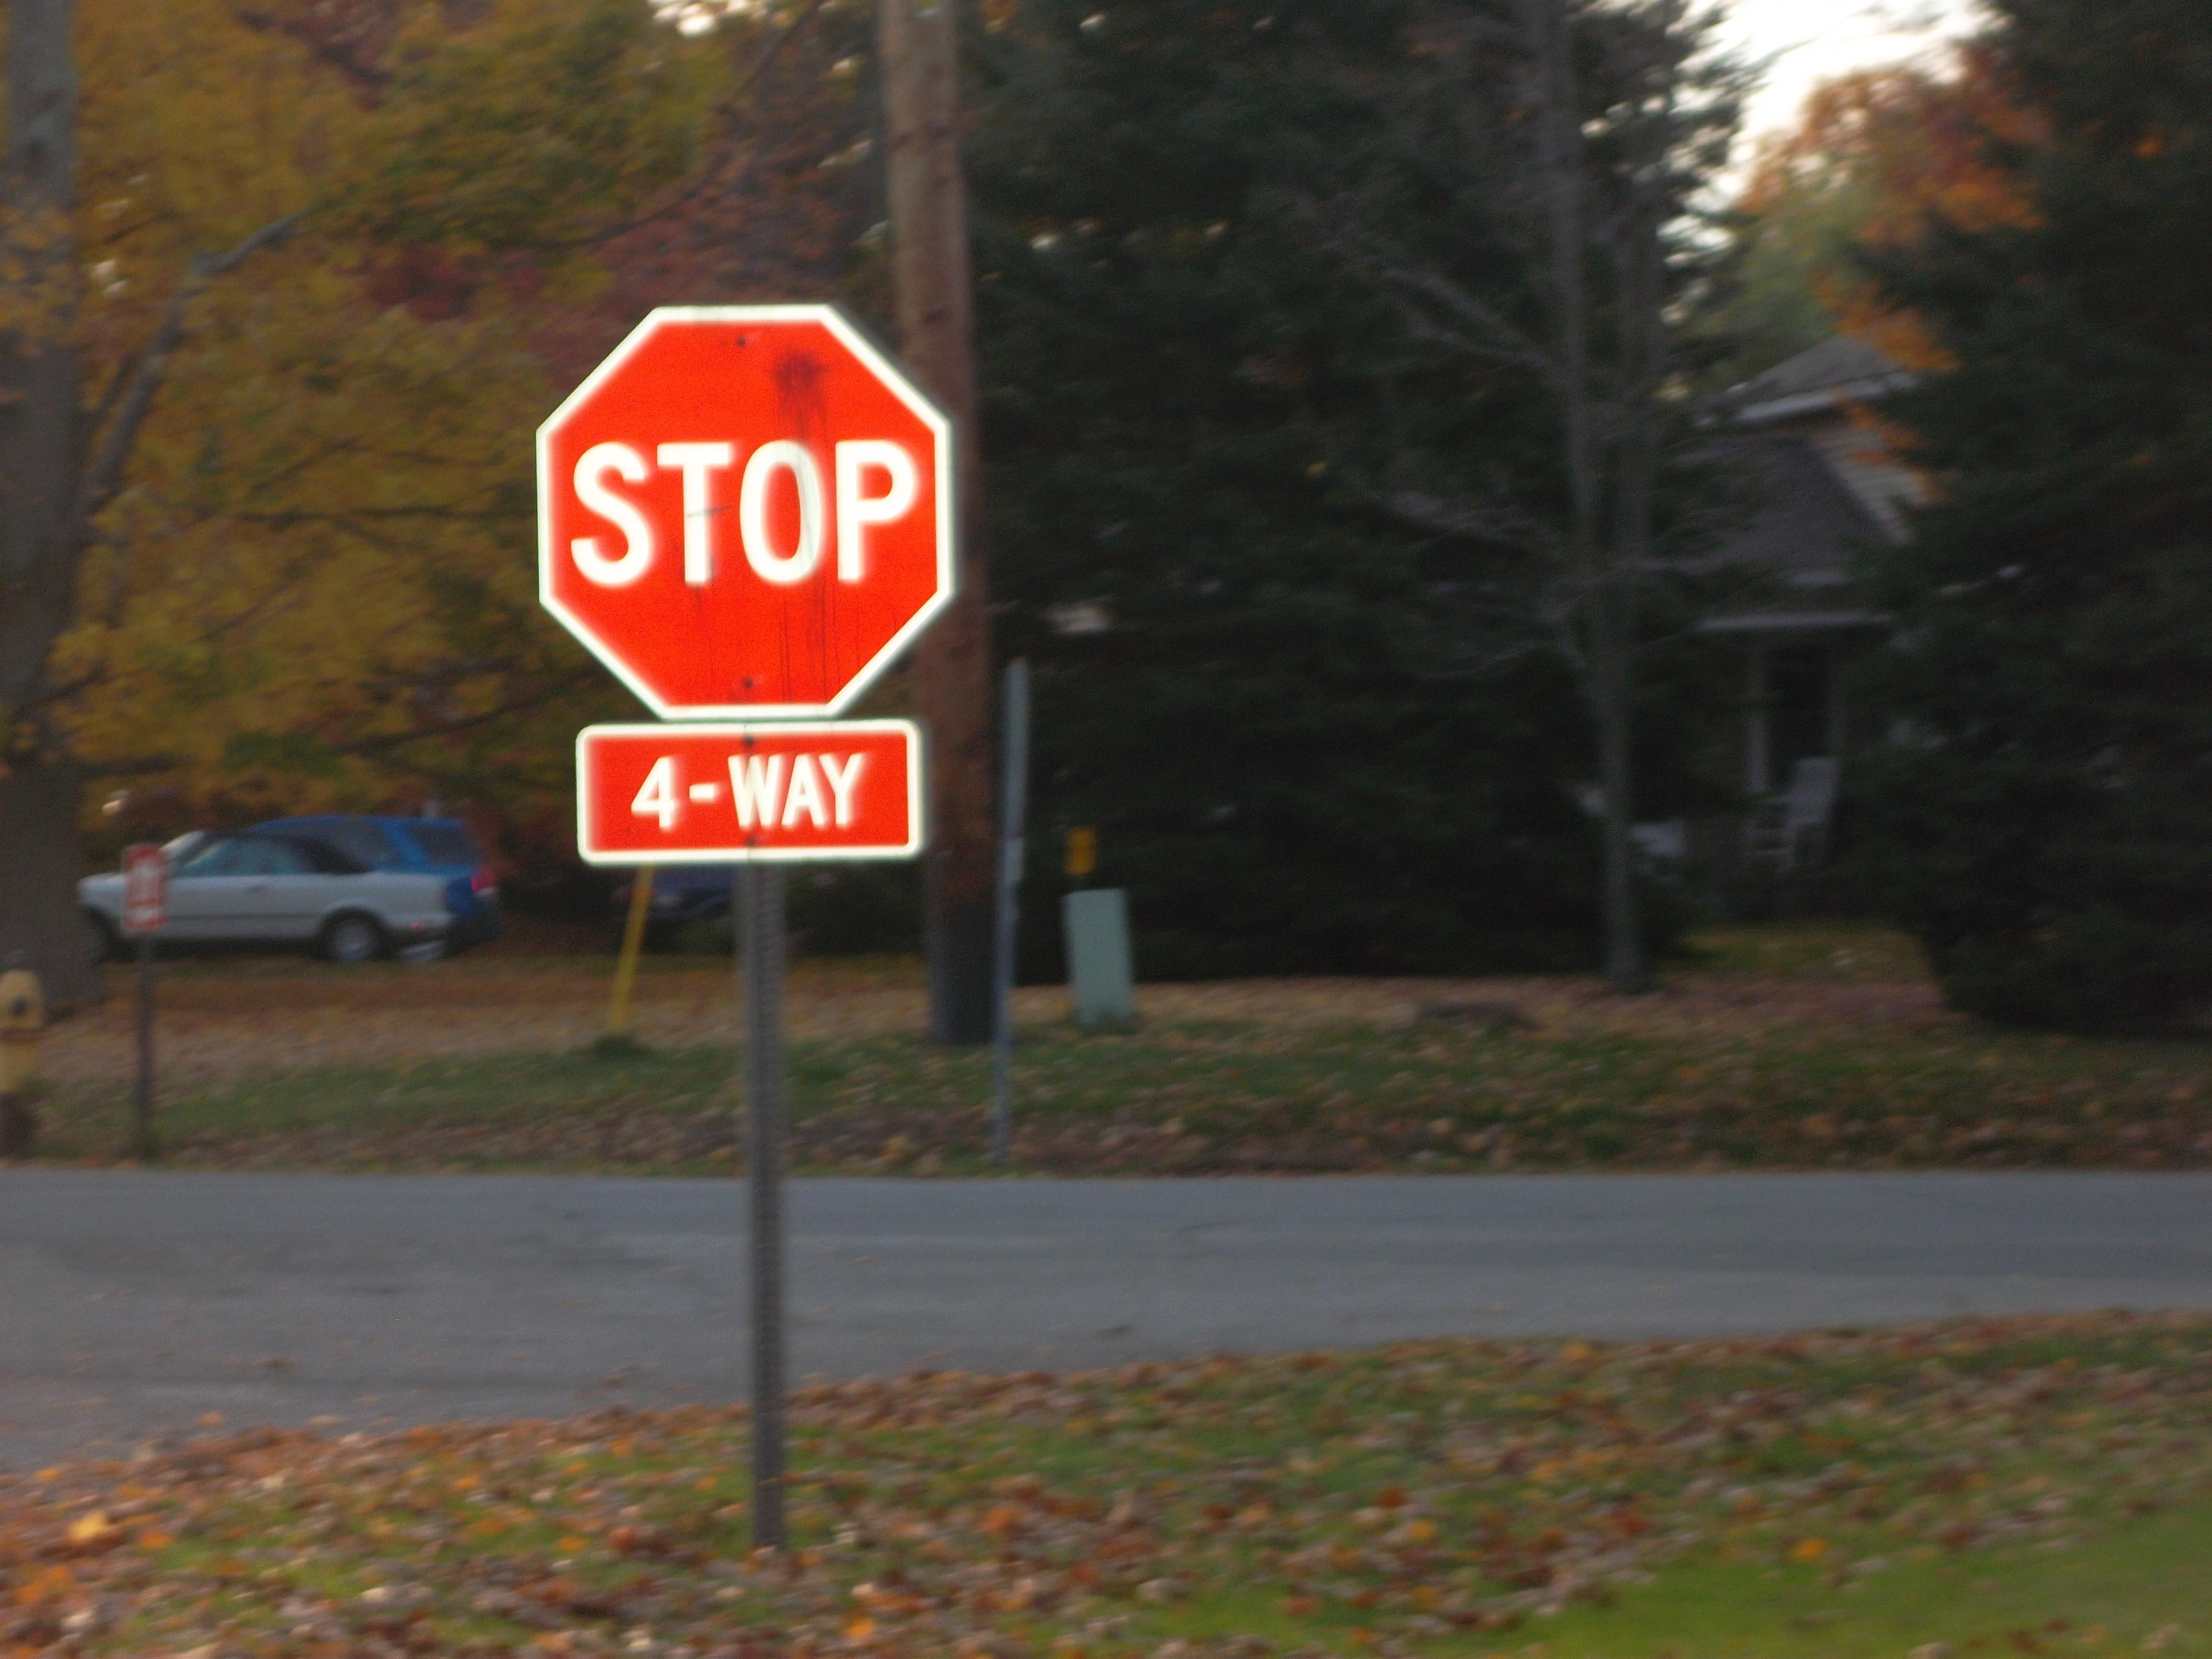stop: (496, 291, 988, 728)
